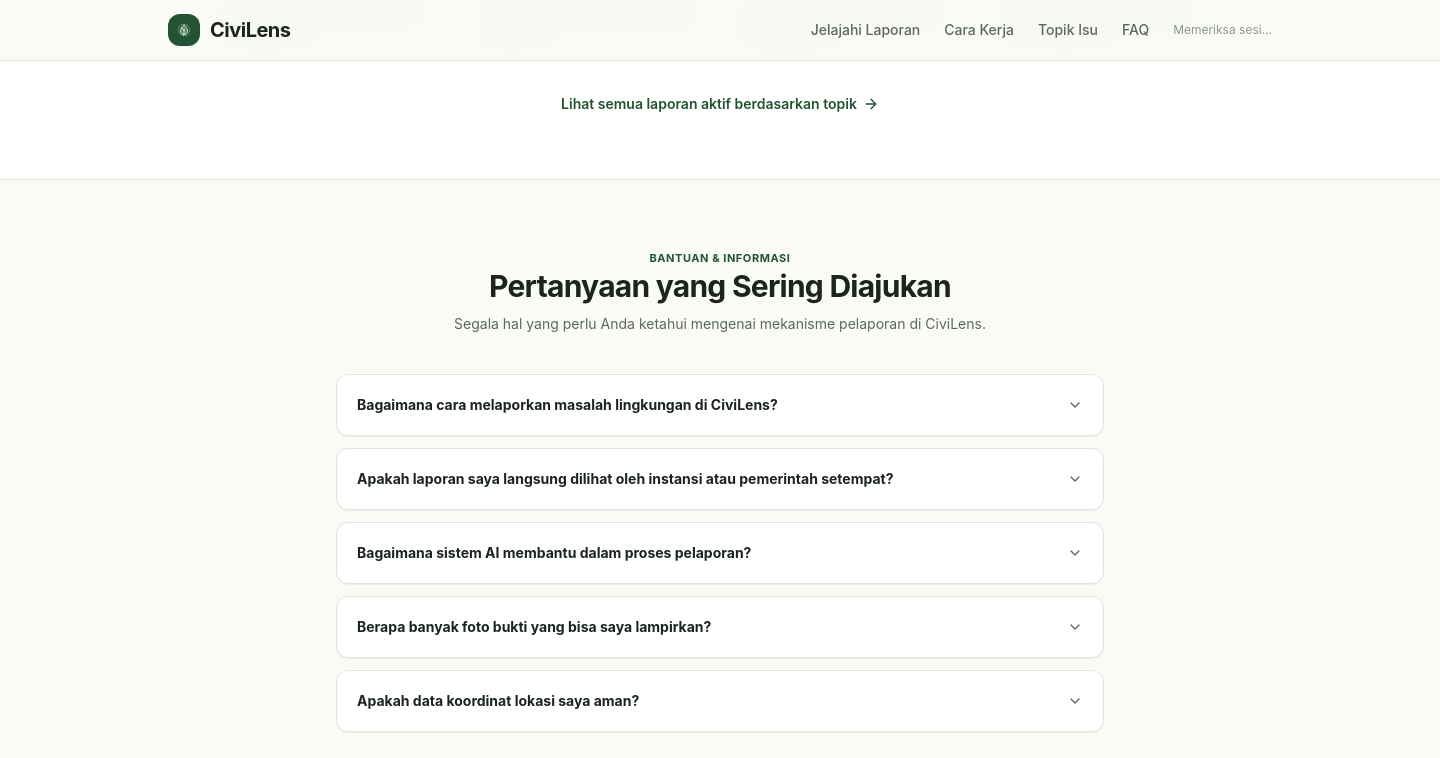
Test: HomePage › toggles FAQ item expansion
This screenshot has width=1440, height=758.
(page scrolled)
Click the button "Bagaimana cara melaporkan masalah lingkungan di CiviLens?": point(720, 405) [337,375,1103,435]
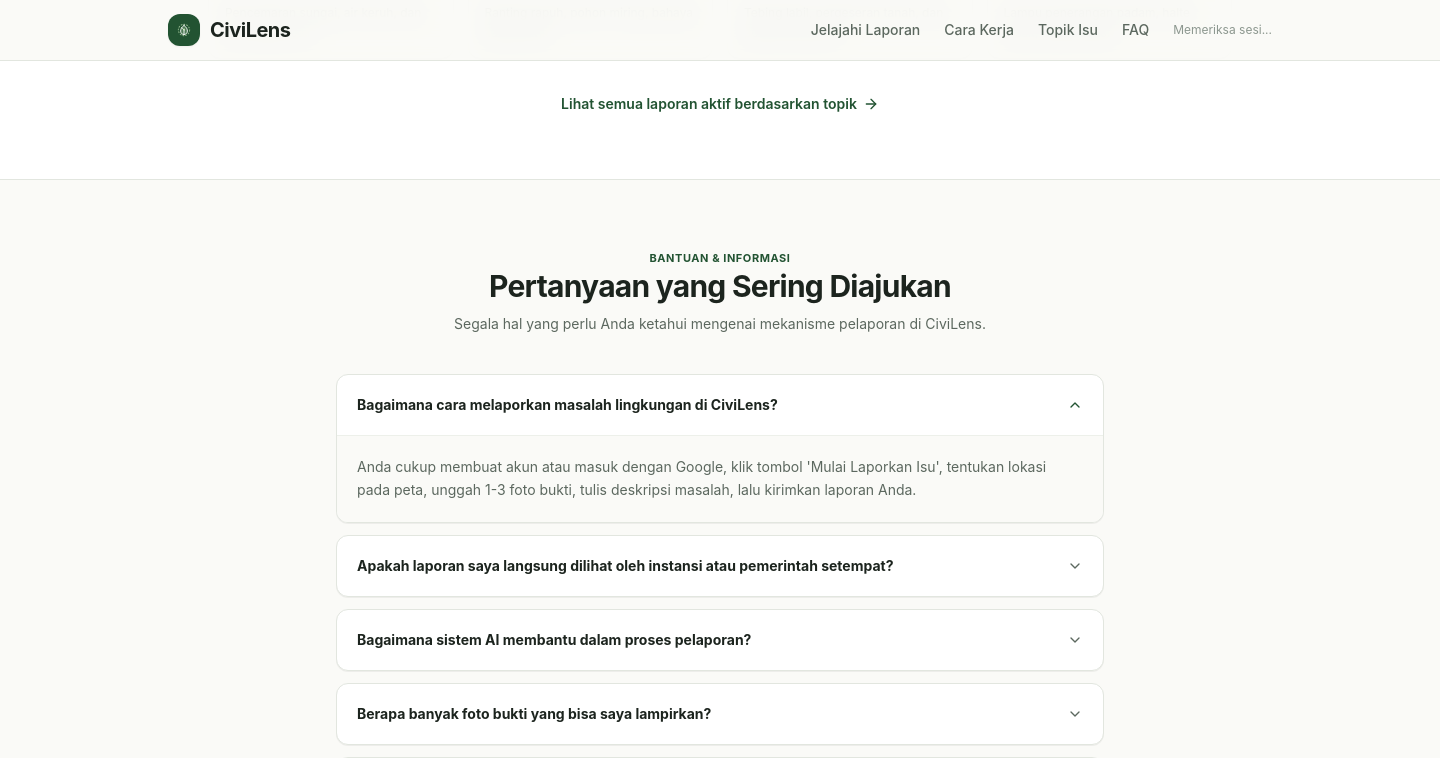
expect the text "tentukan lokasi pada peta" is shown: met, box [357,458,1046,498]
Click the button "Bagaimana cara melaporkan masalah lingkungan di CiviLens?": point(720, 405) [337,375,1103,435]
(page scrolled)
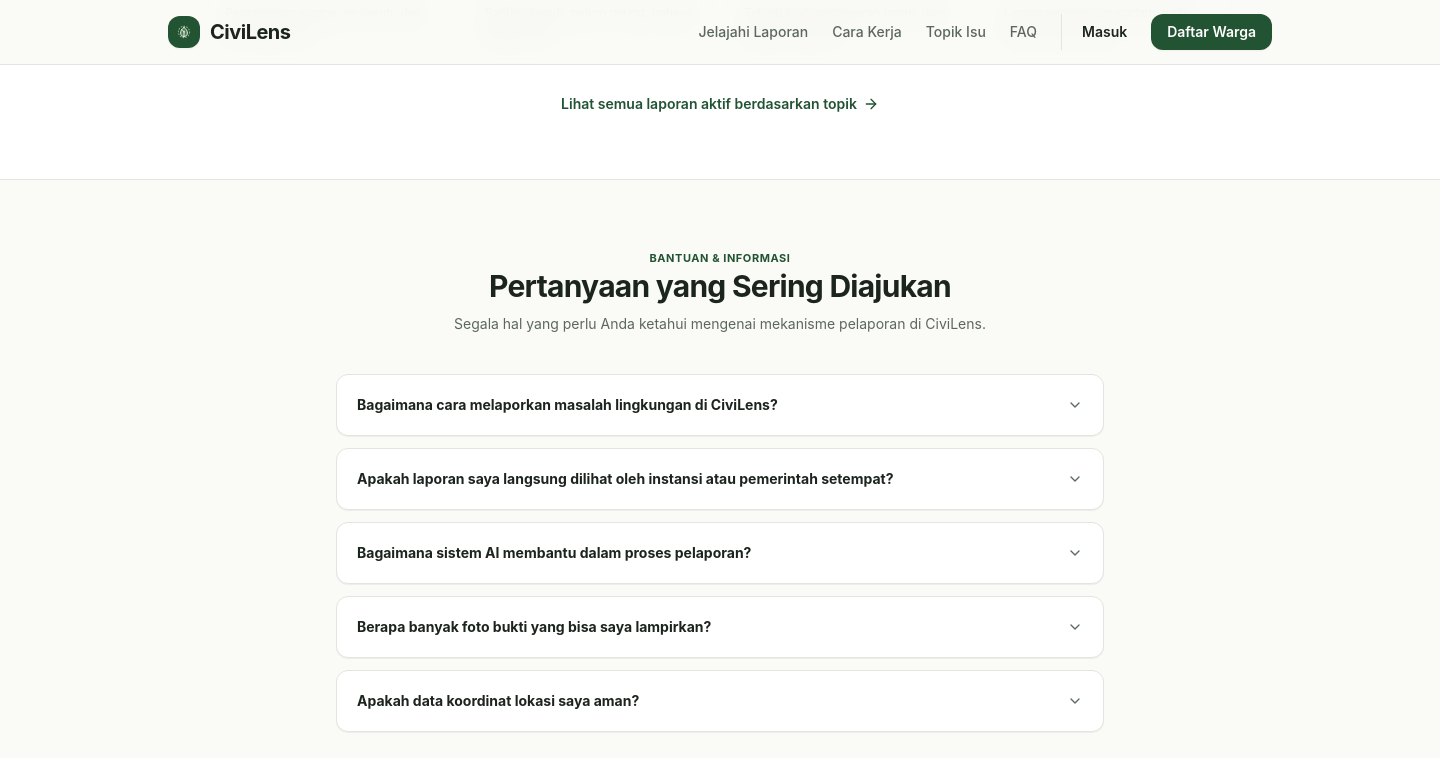
expect the text "tentukan lokasi pada peta" is gone: met
